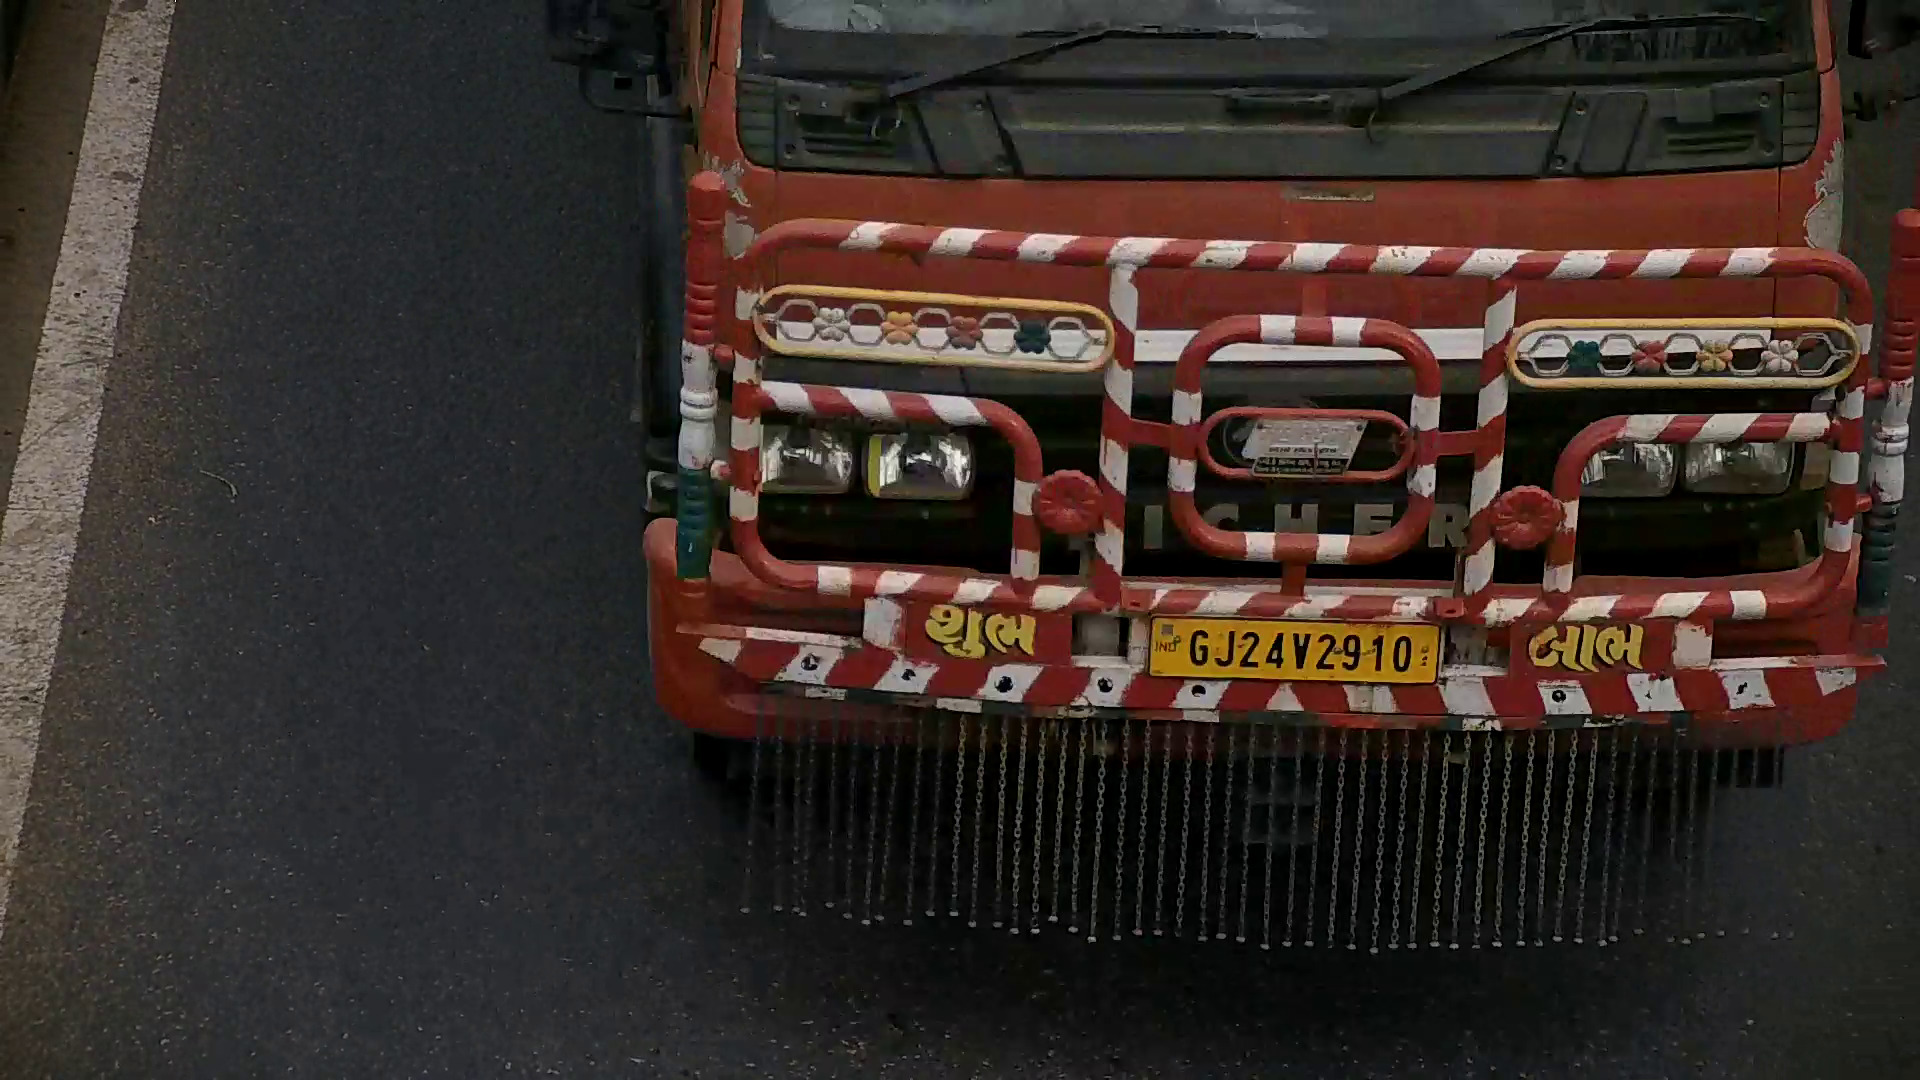numberplate: (1149, 610, 1449, 688)
